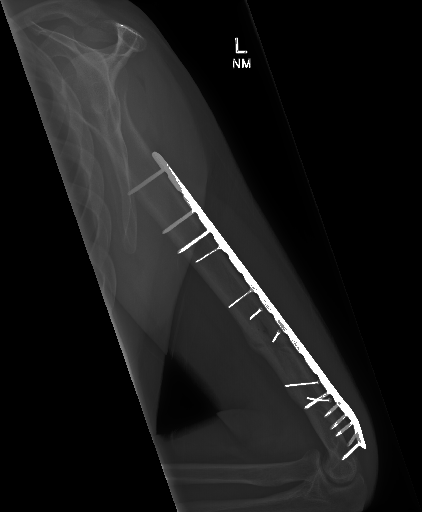implant: (127, 150, 368, 459)
